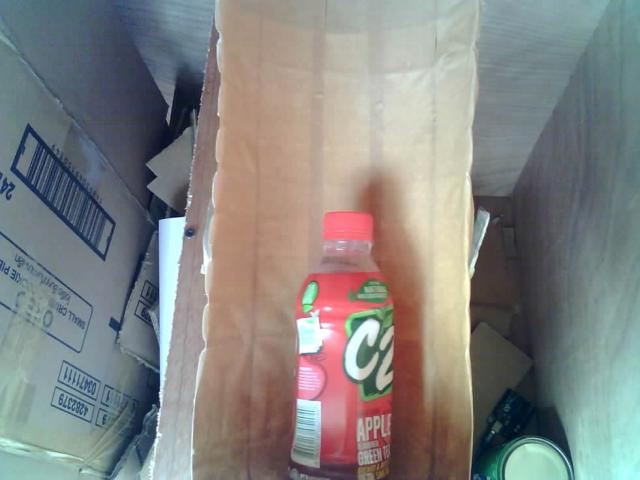small_bottle: (274, 203, 416, 480)
